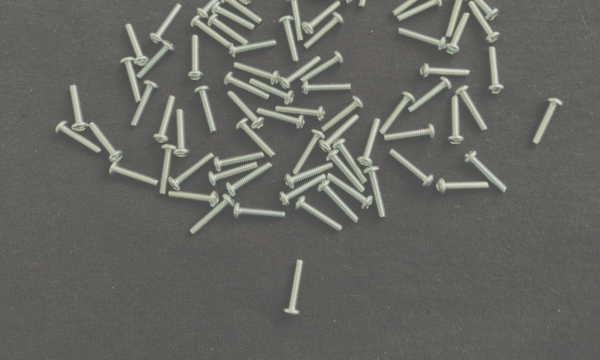longscrew: (463, 149, 509, 194), (387, 147, 436, 189), (167, 150, 216, 192), (188, 194, 237, 235), (317, 180, 360, 225), (326, 171, 374, 210), (454, 83, 491, 133), (294, 195, 344, 232), (226, 161, 276, 198), (235, 117, 278, 159), (326, 148, 366, 193), (333, 137, 369, 186), (407, 76, 454, 113), (55, 119, 103, 155), (318, 113, 361, 153), (379, 91, 416, 137), (531, 97, 565, 147), (278, 173, 328, 207), (226, 89, 266, 130), (136, 40, 177, 80), (302, 12, 345, 50), (88, 121, 125, 165), (320, 96, 365, 132), (299, 50, 346, 84), (292, 129, 326, 176), (190, 15, 234, 51), (130, 78, 161, 129), (283, 161, 335, 190), (108, 160, 160, 189), (279, 55, 322, 90), (149, 2, 184, 45), (467, 0, 501, 44), (302, 0, 343, 36), (207, 160, 259, 188), (223, 72, 271, 102), (283, 259, 306, 320), (356, 117, 383, 168), (207, 14, 250, 46), (249, 76, 296, 105), (396, 26, 448, 52), (193, 86, 220, 136), (211, 2, 257, 31), (152, 93, 178, 144), (364, 165, 388, 220), (156, 142, 179, 196), (232, 61, 281, 86), (444, 12, 471, 57), (124, 22, 151, 67), (256, 106, 306, 130), (232, 202, 288, 223), (213, 151, 266, 173), (119, 56, 143, 104), (68, 83, 90, 134), (435, 178, 491, 198), (278, 14, 300, 64), (221, 0, 264, 25), (396, 0, 444, 22), (228, 38, 278, 59), (173, 106, 192, 161), (384, 124, 437, 143), (167, 189, 220, 208), (447, 95, 466, 147), (274, 104, 327, 122), (487, 45, 506, 95), (445, 0, 470, 38), (187, 34, 206, 83), (285, 0, 306, 43), (419, 63, 472, 80), (460, 0, 500, 22), (197, 0, 235, 21), (301, 81, 354, 96), (391, 0, 435, 18), (305, 0, 355, 6), (357, 0, 380, 10), (237, 0, 256, 7)
